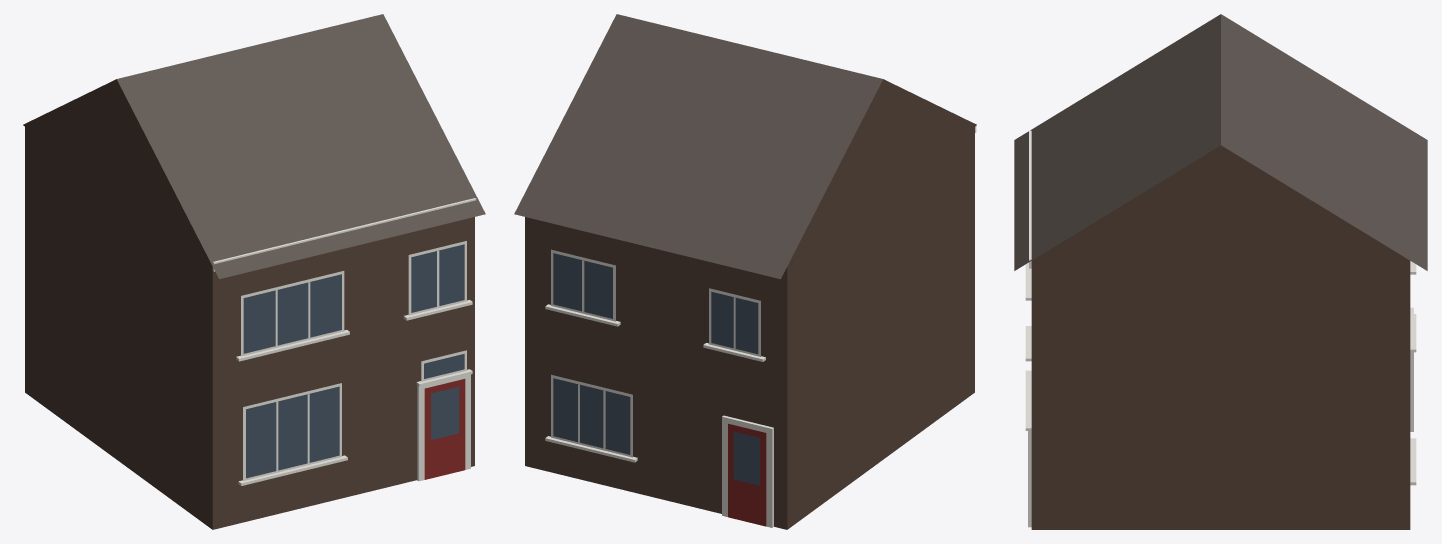
File: nd-to-row__wide__2__gable__long__solid__f1d0__mirror.glb
3 views of the same model, side by side, from view 1: azimuth 30°, elevation 25°; view 2: azimuth 150°, elevation 25°; view 3: azimuth 270°, elevation 25° (orthographic).
Parts seen in each view (by area): view 1: nd-to-row__wide__2__gable__long__solid__f1d0__mirror; view 2: nd-to-row__wide__2__gable__long__solid__f1d0__mirror; view 3: nd-to-row__wide__2__gable__long__solid__f1d0__mirror.
Boxes of the visible parts, left/top/right/bottom form: nd-to-row__wide__2__gable__long__solid__f1d0__mirror: left=23, top=14, right=485, bottom=529; nd-to-row__wide__2__gable__long__solid__f1d0__mirror: left=514, top=14, right=976, bottom=529; nd-to-row__wide__2__gable__long__solid__f1d0__mirror: left=1014, top=14, right=1427, bottom=529.
Bounding box in the file's own units: 6.26 × 8.58 × 8.33.
